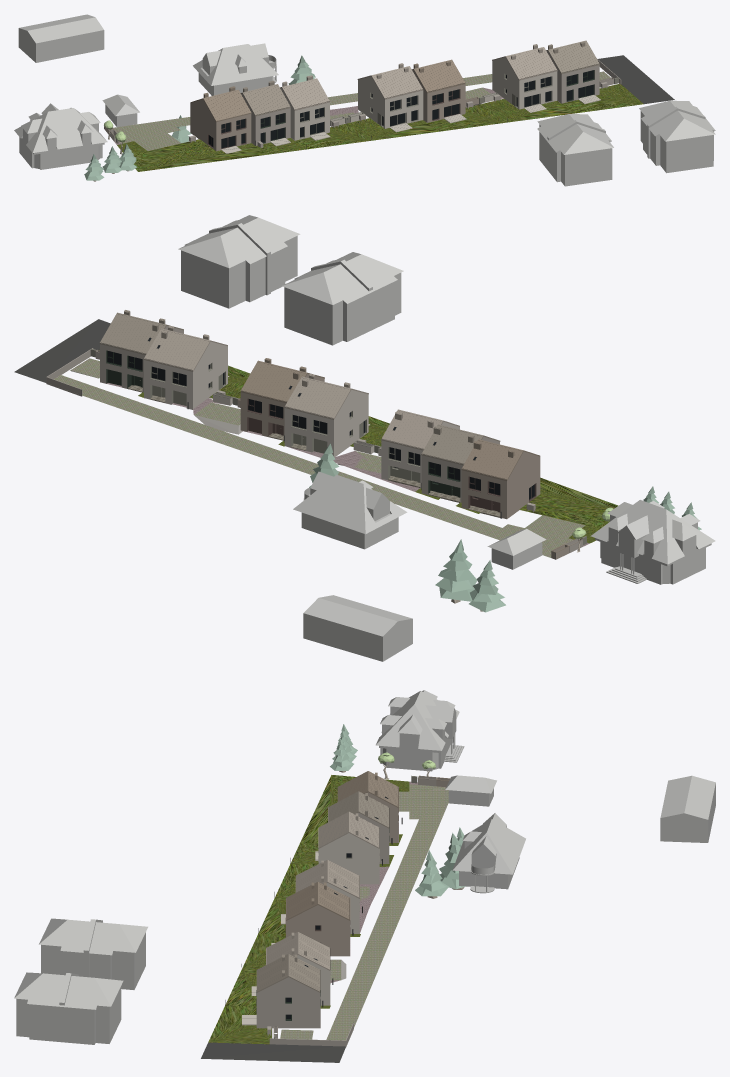
File: bor2-zewnetrze-v7.glb
3 views of the same model, one above another, from view 1: azimuth 30°, elevation 25°; view 2: azimuth 150°, elevation 25°; view 3: azimuth 270°, elevation 25° (orthographic). The views are drawn at different scales.
Parts seen in each view (by area): view 1: ZIEMIA, KONTEKST_8, KONTEKST_4, KONTEKST_2, DOM_D, DOM_B, KONTEKST_6, KONTEKST_5, DOM_G, DOM_C, DOM_A, DOM_E (+7 smaller); view 2: ZIEMIA, KONTEKST_8, KONTEKST_3, KONTEKST_1, KONTEKST_6, DOM_B, DOM_D, KONTEKST_5, DOM_G, ZIELEN, DOM_C, DOM_A (+6 smaller); view 3: ZIEMIA, KONTEKST_8, DOM_A, KONTEKST_6, KONTEKST_3, DOM_C, KONTEKST_1, DOM_E, KONTEKST_5, KONTEKST_4, ZIELEN, KONTEKST_2 (+6 smaller).
Boxes of the visible parts, x1=… form: ZIEMIA: x1=113, y1=55, x2=674, y2=171; KONTEKST_8: x1=14, y1=103, x2=107, y2=169; KONTEKST_4: x1=648, y1=107, x2=715, y2=173; KONTEKST_2: x1=547, y1=121, x2=613, y2=186; DOM_D: x1=357, y1=63, x2=423, y2=128; DOM_B: x1=492, y1=44, x2=557, y2=109; KONTEKST_6: x1=193, y1=43, x2=278, y2=95; KONTEKST_5: x1=18, y1=14, x2=104, y2=62; DOM_G: x1=190, y1=86, x2=251, y2=150; DOM_C: x1=412, y1=59, x2=465, y2=122; DOM_A: x1=546, y1=40, x2=599, y2=103; DOM_E: x1=280, y1=75, x2=329, y2=140; ZIEMIA: x1=14, y1=319, x2=618, y2=558; KONTEKST_8: x1=590, y1=500, x2=715, y2=584; KONTEKST_3: x1=178, y1=224, x2=268, y2=308; KONTEKST_1: x1=282, y1=260, x2=371, y2=345; KONTEKST_6: x1=293, y1=471, x2=407, y2=549; DOM_B: x1=143, y1=325, x2=227, y2=409; DOM_D: x1=284, y1=374, x2=368, y2=457; KONTEKST_5: x1=303, y1=595, x2=412, y2=661; DOM_G: x1=461, y1=439, x2=540, y2=519; ZIELEN: x1=309, y1=443, x2=701, y2=612; DOM_C: x1=240, y1=358, x2=324, y2=440; DOM_A: x1=99, y1=310, x2=183, y2=392; ZIEMIA: x1=201, y1=775, x2=448, y2=1062; KONTEKST_8: x1=375, y1=690, x2=464, y2=771; DOM_A: x1=256, y1=954, x2=320, y2=1028; KONTEKST_6: x1=452, y1=813, x2=525, y2=893; KONTEKST_3: x1=61, y1=973, x2=123, y2=1044; DOM_C: x1=285, y1=882, x2=350, y2=956; KONTEKST_1: x1=86, y1=919, x2=147, y2=989; DOM_E: x1=318, y1=811, x2=379, y2=884; KONTEKST_5: x1=660, y1=775, x2=715, y2=842; KONTEKST_4: x1=14, y1=972, x2=68, y2=1042; ZIELEN: x1=330, y1=724, x2=465, y2=898; KONTEKST_2: x1=39, y1=918, x2=93, y2=976.
Size of the model in its own units: 121 by 19.43 by 110.
27 materials, 5 textured.
